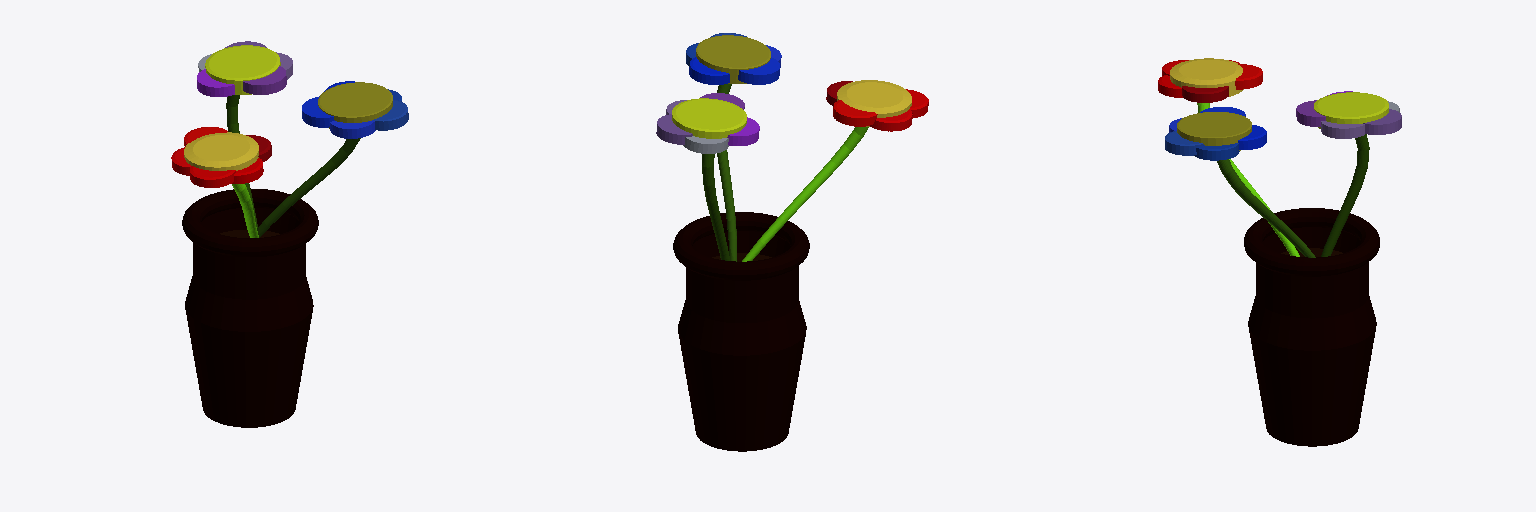
File: Pot_de_fleur.obj
The picture shows the model from 3 angles: view 1: azimuth 30°, elevation 25°; view 2: azimuth 150°, elevation 25°; view 3: azimuth 270°, elevation 25°; orthographic projection.
Parts seen in each view (by area): view 1: Cylinder, Cylinder.001_Cylinder.009, Cylinder.001, Cylinder.012_Cylinder.015, BezierCurve.001, Cylinder.015_Cylinder.018, Cylinder.003, Cylinder.002_Cylinder.010, Cylinder.010_Cylinder.013, Cylinder.017_Cylinder.020, Cylinder.009_Cylinder.012, BezierCurve (+1 smaller); view 2: Cylinder, Cylinder.012_Cylinder.015, Cylinder.001_Cylinder.009, Cylinder.001, BezierCurve, BezierCurve.002, BezierCurve.001, Cylinder.006, Cylinder.009_Cylinder.012, Cylinder.011_Cylinder.014, Cylinder.013_Cylinder.016, Cylinder.014_Cylinder.017 (+2 smaller); view 3: Cylinder, Cylinder.001_Cylinder.009, Cylinder.012_Cylinder.015, Cylinder.001, BezierCurve.001, BezierCurve.002, Cylinder.008, Cylinder.013_Cylinder.016, Cylinder.016_Cylinder.019, Cylinder.002_Cylinder.010, Cylinder.004_Cylinder.011, BezierCurve (+2 smaller).
Boxes of the visible parts, x1=… form: Cylinder: x1=182, y1=188, x2=318, y2=427; Cylinder.001_Cylinder.009: x1=318, y1=82, x2=392, y2=128; Cylinder.001: x1=184, y1=132, x2=258, y2=170; Cylinder.012_Cylinder.015: x1=205, y1=45, x2=280, y2=94; BezierCurve.001: x1=257, y1=138, x2=360, y2=237; Cylinder.015_Cylinder.018: x1=243, y1=66, x2=286, y2=94; Cylinder.003: x1=190, y1=166, x2=235, y2=187; Cylinder.002_Cylinder.010: x1=373, y1=100, x2=408, y2=130; Cylinder.010_Cylinder.013: x1=330, y1=120, x2=375, y2=138; Cylinder.017_Cylinder.020: x1=197, y1=69, x2=234, y2=96; Cylinder.009_Cylinder.012: x1=302, y1=96, x2=334, y2=127; BezierCurve: x1=232, y1=184, x2=258, y2=237; Cylinder: x1=673, y1=212, x2=809, y2=451; Cylinder.012_Cylinder.015: x1=672, y1=98, x2=746, y2=138; Cylinder.001_Cylinder.009: x1=696, y1=35, x2=770, y2=83; Cylinder.001: x1=837, y1=80, x2=911, y2=126; BezierCurve: x1=742, y1=127, x2=868, y2=261; BezierCurve.002: x1=702, y1=154, x2=729, y2=260; BezierCurve.001: x1=717, y1=84, x2=736, y2=261; Cylinder.006: x1=833, y1=100, x2=877, y2=126; Cylinder.009_Cylinder.012: x1=738, y1=57, x2=779, y2=84; Cylinder.011_Cylinder.014: x1=689, y1=57, x2=729, y2=84; Cylinder.013_Cylinder.016: x1=656, y1=114, x2=692, y2=144; Cylinder.014_Cylinder.017: x1=683, y1=136, x2=728, y2=153; Cylinder: x1=1244, y1=208, x2=1379, y2=446; Cylinder.001_Cylinder.009: x1=1177, y1=112, x2=1251, y2=150; Cylinder.012_Cylinder.015: x1=1314, y1=92, x2=1388, y2=128; Cylinder.001: x1=1170, y1=58, x2=1243, y2=96; BezierCurve.001: x1=1217, y1=159, x2=1315, y2=257; BezierCurve.002: x1=1321, y1=134, x2=1369, y2=256; Cylinder.008: x1=1182, y1=86, x2=1228, y2=102; Cylinder.013_Cylinder.016: x1=1363, y1=109, x2=1401, y2=134; Cylinder.016_Cylinder.019: x1=1321, y1=121, x2=1364, y2=138; Cylinder.002_Cylinder.010: x1=1165, y1=131, x2=1203, y2=155; Cylinder.004_Cylinder.011: x1=1194, y1=143, x2=1239, y2=160; BezierCurve: x1=1197, y1=103, x2=1299, y2=256.
Bounding box in the file's own units: 3.45 × 4.92 × 3.26.